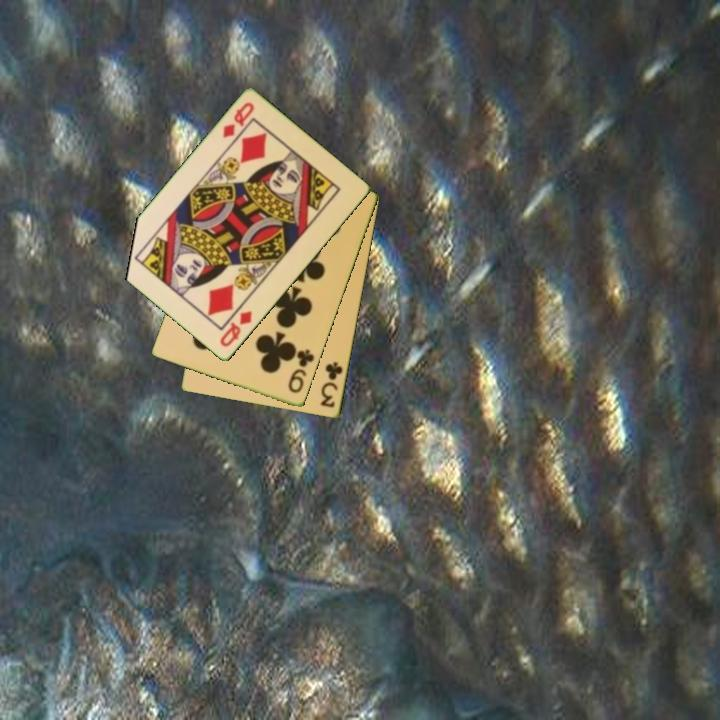3c: (317, 359, 346, 411)
9c: (285, 346, 317, 396)
Qd: (216, 307, 255, 350), (219, 99, 257, 142)
